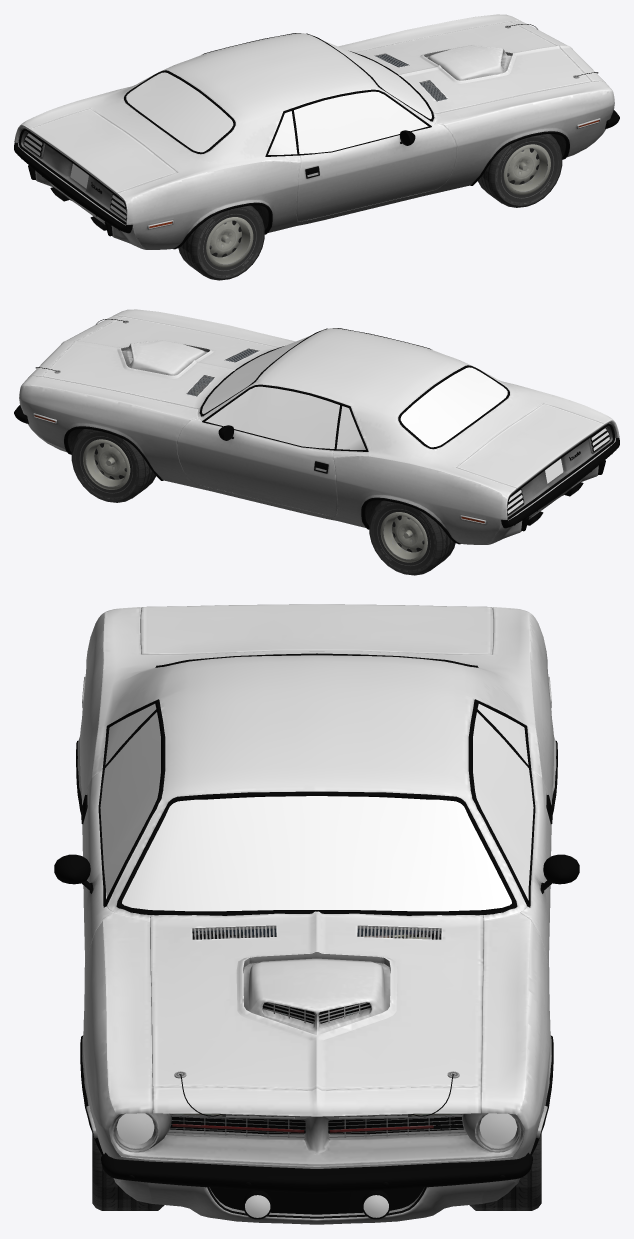
The model's file is plymouth-barracuda.glb.
The picture shows the model from 3 angles, top to bottom: view 1: azimuth 30°, elevation 25°; view 2: azimuth 150°, elevation 25°; view 3: azimuth 270°, elevation 25°; orthographic projection. The views are drawn at different scales.
Visible parts, largest first — view 1: barracuda-body, wheel-rear-right, wheel-front-right; view 2: barracuda-body, wheel-rear-left, wheel-front-left; view 3: barracuda-body, wheel-front-left, wheel-front-right.
Part boxes in pixels (x1=…): barracuda-body: x1=14, y1=14, x2=619, y2=249; wheel-rear-right: x1=178, y1=205, x2=264, y2=280; wheel-front-right: x1=478, y1=134, x2=562, y2=207; barracuda-body: x1=14, y1=309, x2=619, y2=544; wheel-rear-left: x1=369, y1=500, x2=455, y2=575; wheel-front-left: x1=71, y1=429, x2=155, y2=502; barracuda-body: x1=54, y1=604, x2=579, y2=1224; wheel-front-left: x1=469, y1=1133, x2=541, y2=1210; wheel-front-right: x1=92, y1=1133, x2=164, y2=1210.
Bounding box in the file's own units: 4.74 × 1.32 × 2.1.
Materials: 9 (7 with a texture image).
